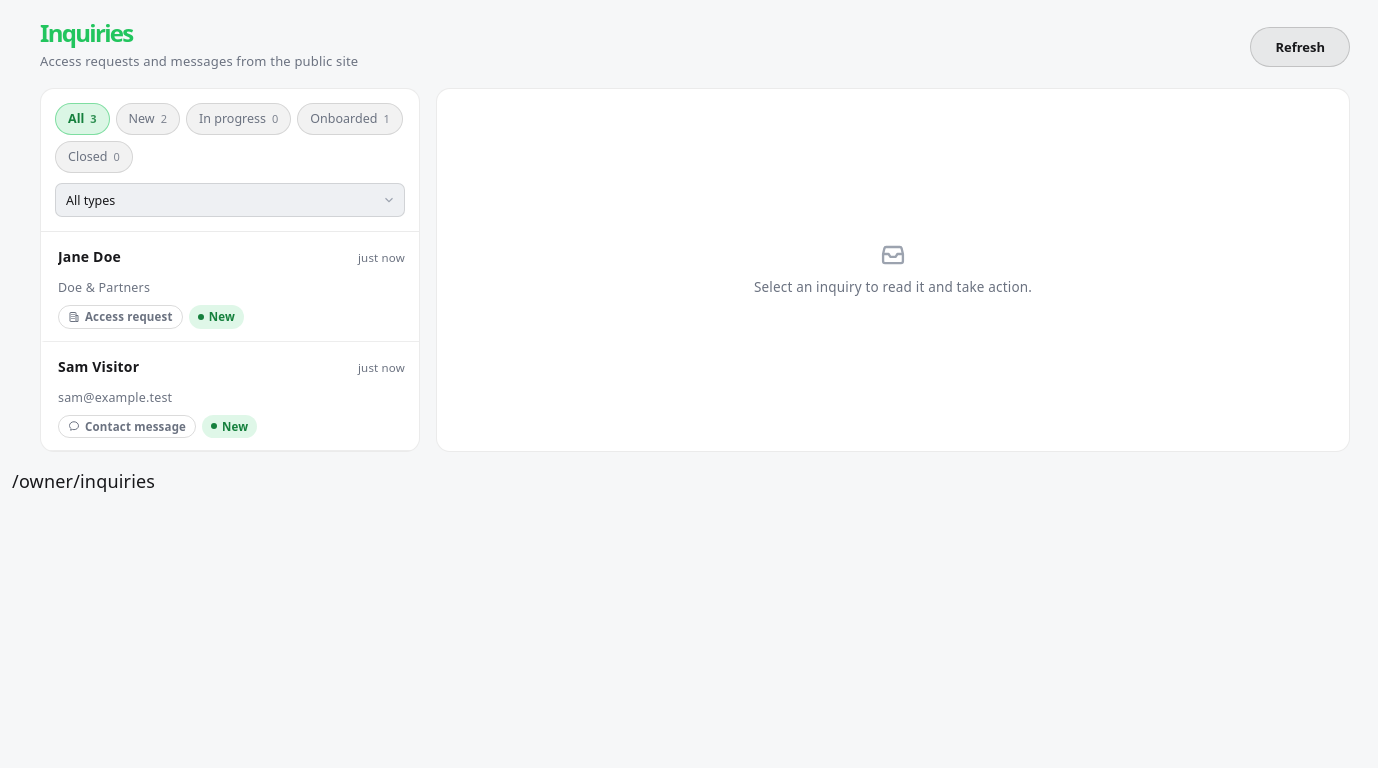
Test: Owner inquiries › deletes an inquiry only after confirmation
This screenshot has width=1378, height=768.
Click the link "Sam Visitor just now sam@example.test Contact message New".
click(99, 366)  # box [41,342,419,451]
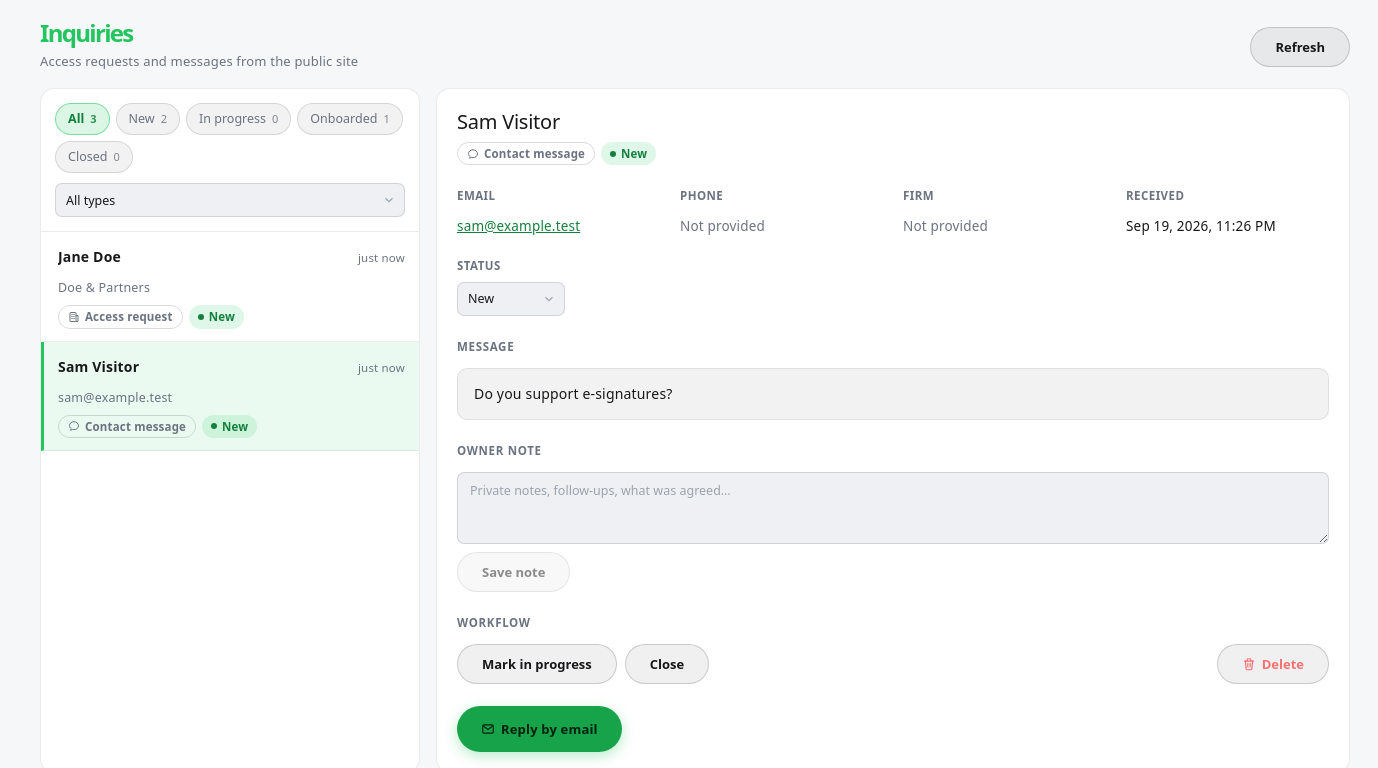
Click the button "Delete".
click(1273, 664)  # box [1217,644,1329,684]
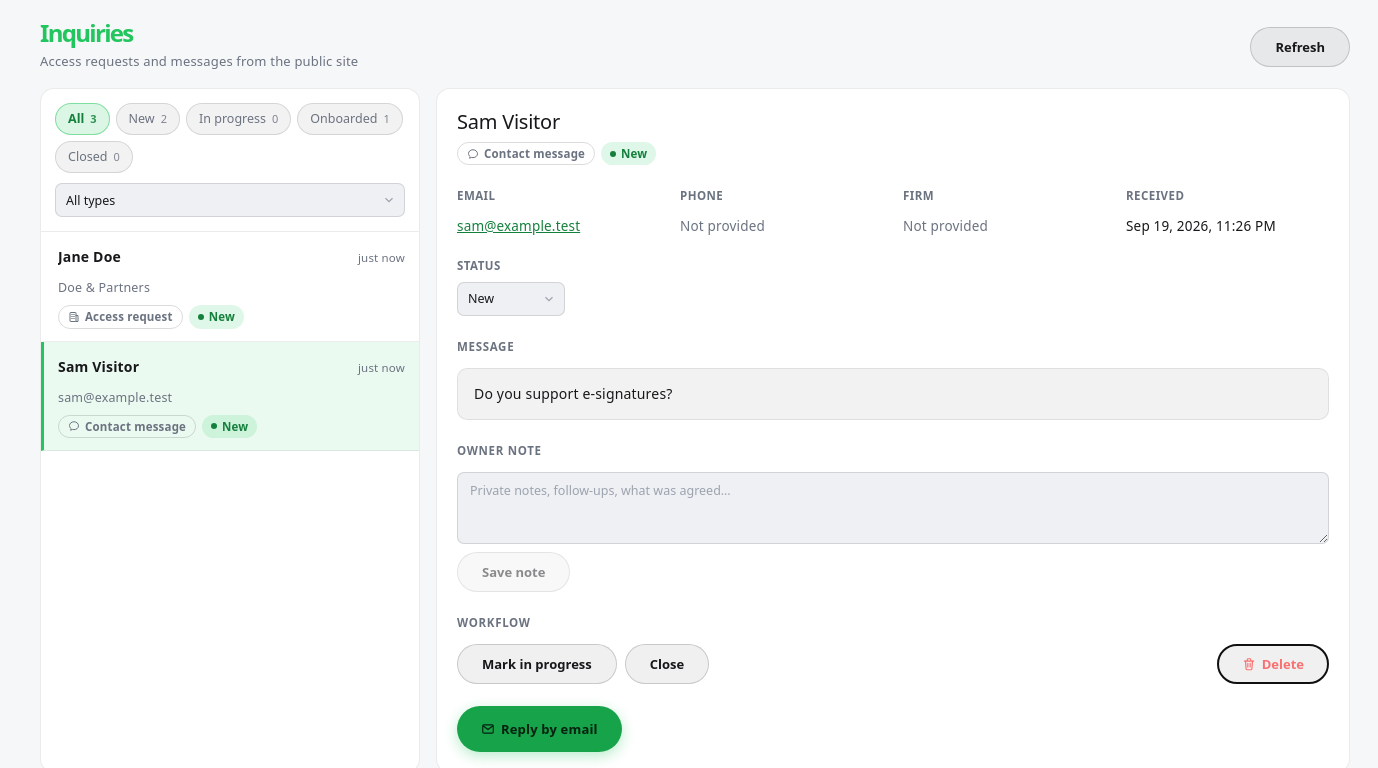
Click the button "Delete".
click(1273, 664)  # box [1217,644,1329,684]
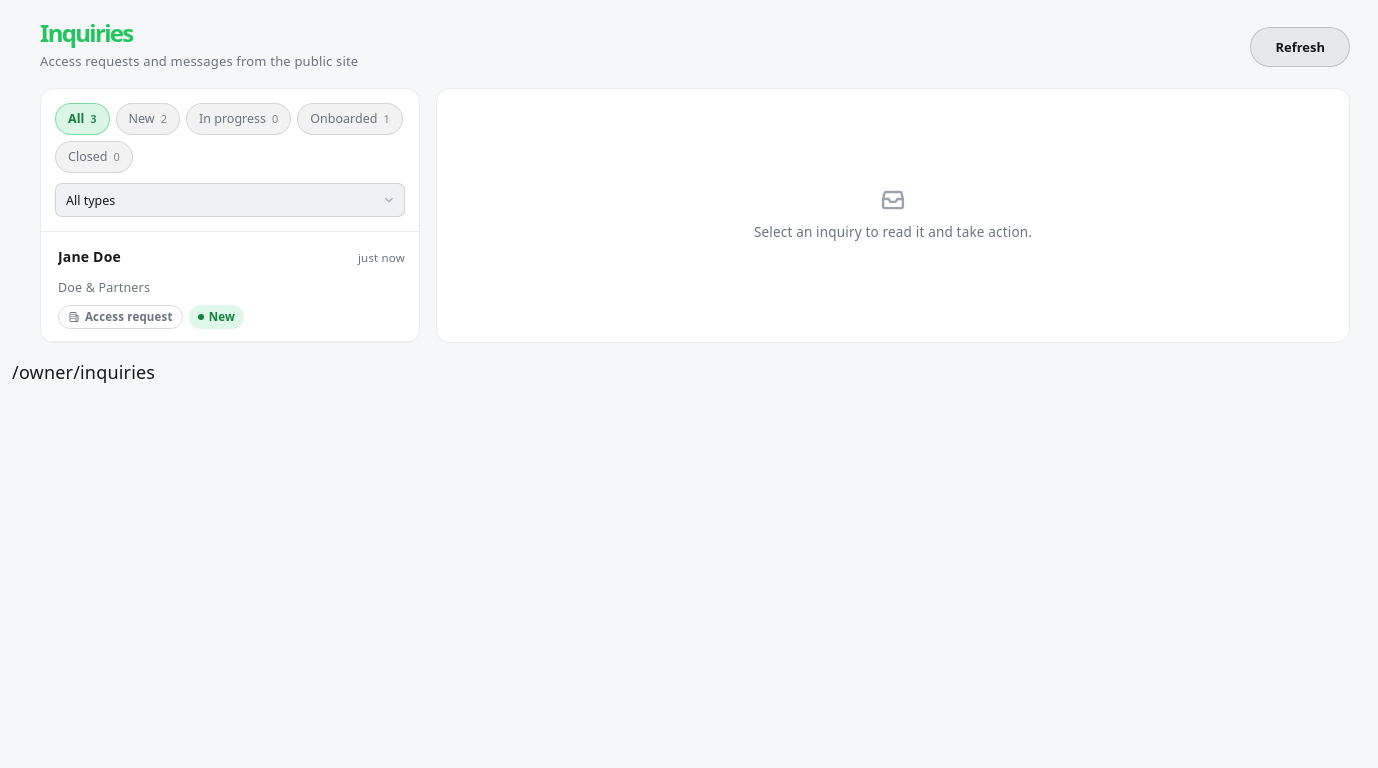
expect the link "Sam Visitor" is gone: met
expect the text with test id "location" reads "/owner/inquiries": met, box [12,360,155,384]
